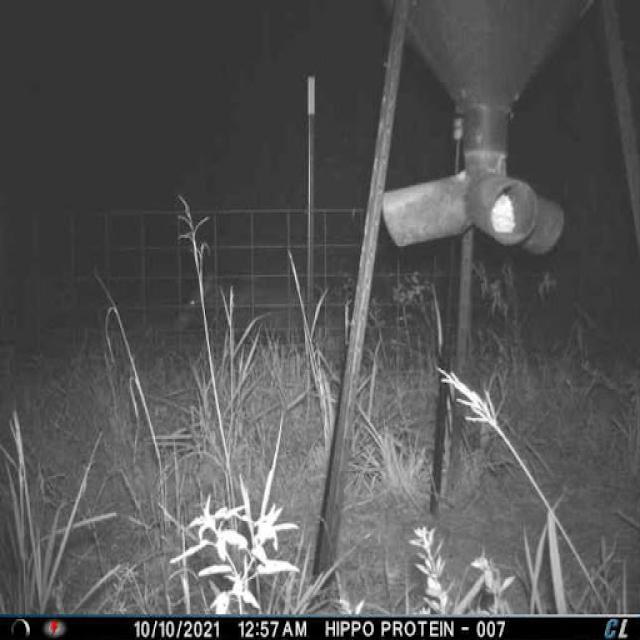wild boar: (181, 267, 340, 383)
